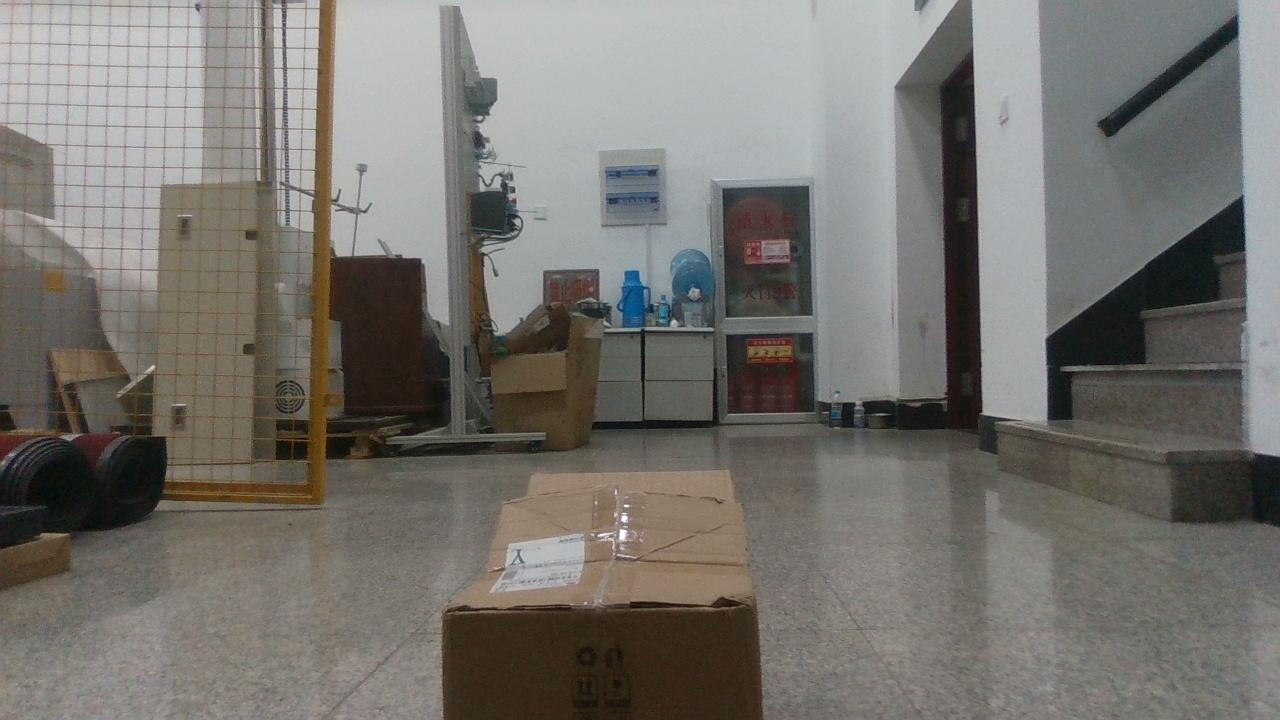box: (442, 470, 762, 720)
